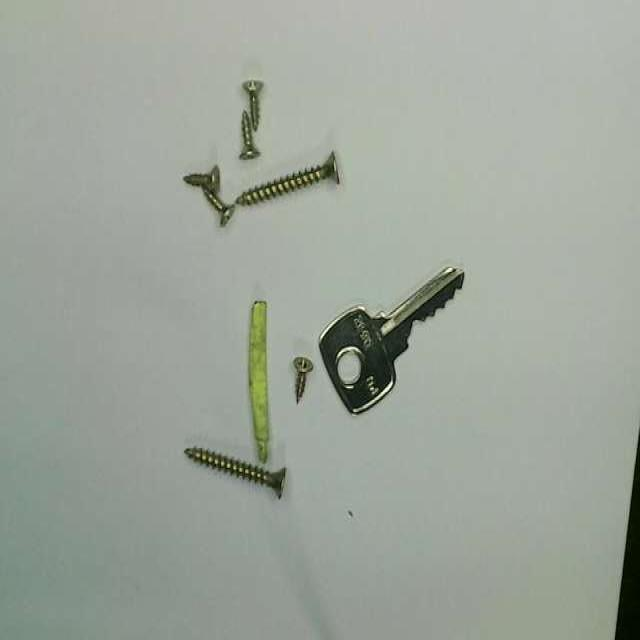Parafuso: (236, 152, 339, 204), (184, 448, 284, 496), (200, 186, 236, 228), (242, 80, 262, 129), (239, 111, 259, 157), (187, 169, 222, 193), (295, 357, 313, 403)
